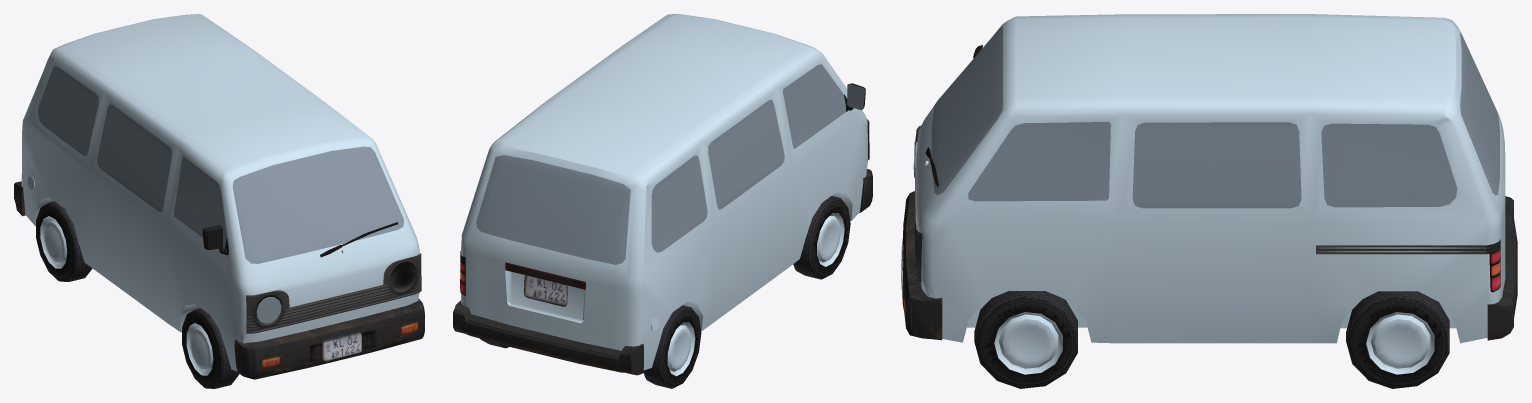
File: car-omni.glb
3 views of the same model, side by side, from view 1: azimuth 30°, elevation 25°; view 2: azimuth 150°, elevation 25°; view 3: azimuth 270°, elevation 25° (orthographic). The views are drawn at different scales.
Visible parts, largest first — view 1: Cube; view 2: Cube; view 3: Cube.
Part boxes in pixels (bbox=[...]): Cube: bbox=[14, 14, 424, 388]; Cube: bbox=[453, 14, 872, 388]; Cube: bbox=[901, 14, 1517, 388].
Size of the model in its own units: 1.61 by 1.71 by 3.4.
Materials: 4 (2 with a texture image).
